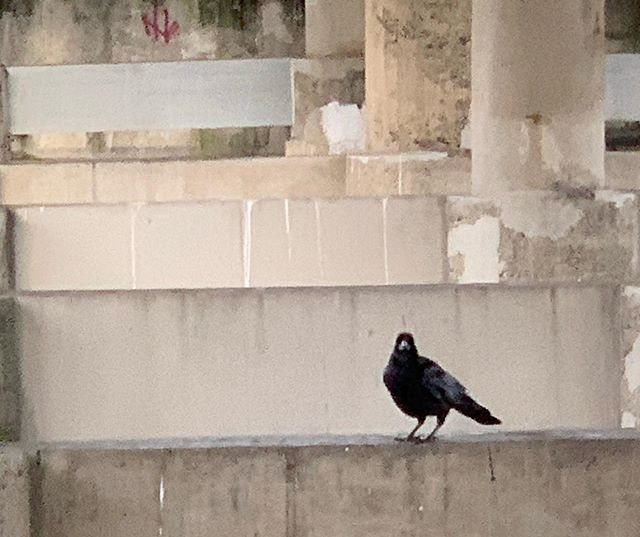animal: (375, 331, 501, 455)
